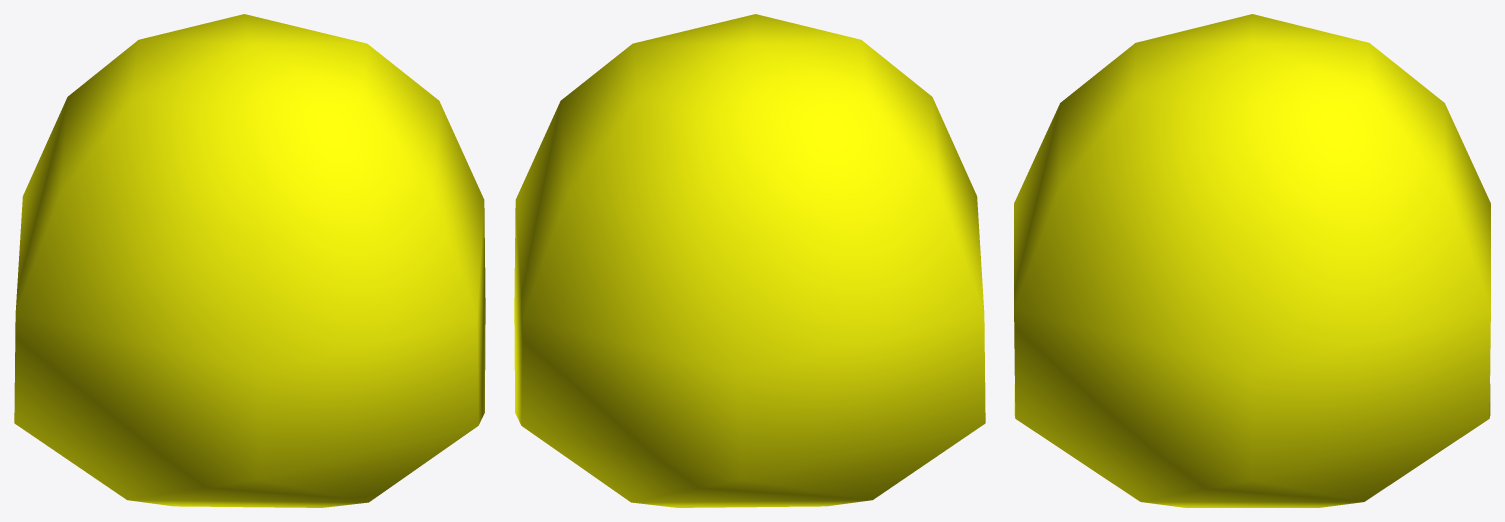
File: kaykit-bush-1-a-color-1.glb
3 views of the same model, side by side, from view 1: azimuth 30°, elevation 25°; view 2: azimuth 150°, elevation 25°; view 3: azimuth 270°, elevation 25° (orthographic).
Parts seen in each view (by area): view 1: Bush_1_A_Color1; view 2: Bush_1_A_Color1; view 3: Bush_1_A_Color1.
Part boxes in pixels (left/top/right/bottom): Bush_1_A_Color1: left=14, top=14, right=485, bottom=507; Bush_1_A_Color1: left=514, top=14, right=985, bottom=507; Bush_1_A_Color1: left=1014, top=14, right=1490, bottom=507.
Size of the model in its own units: 0.2672 by 0.2267 by 0.2341.
